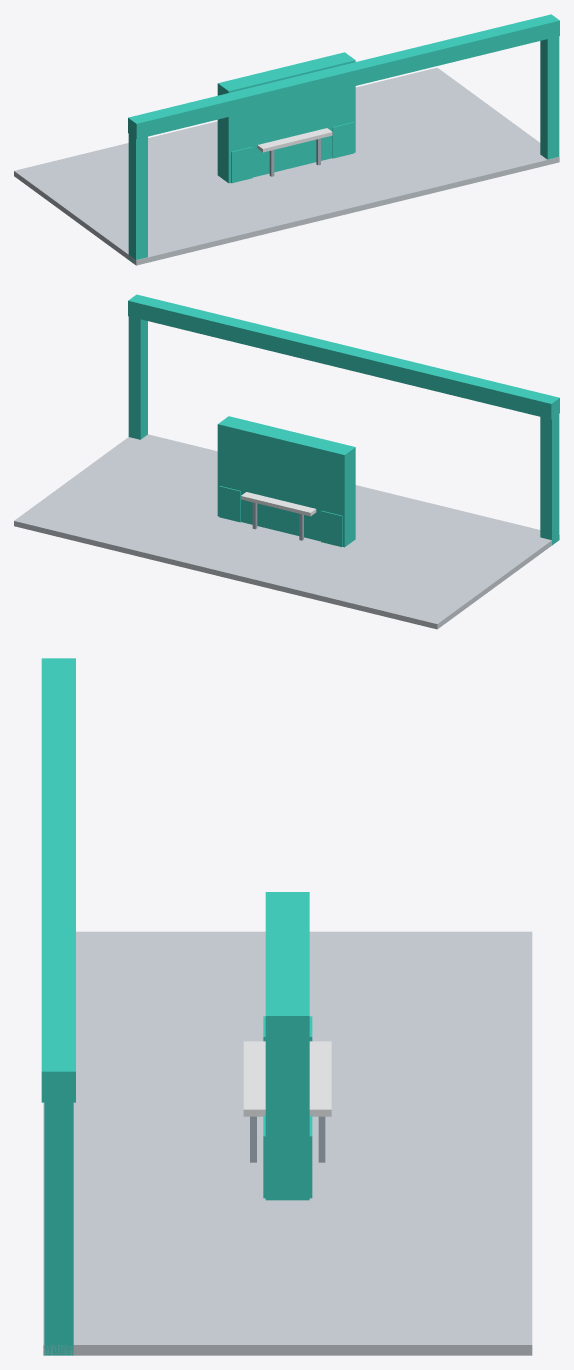
The picture shows the model from 3 angles, top to bottom: view 1: azimuth 30°, elevation 25°; view 2: azimuth 150°, elevation 25°; view 3: azimuth 270°, elevation 25°; orthographic projection. The views are drawn at different scales.
Visible parts, largest first — view 1: Exhibition Booth Concept; view 2: Exhibition Booth Concept; view 3: Exhibition Booth Concept.
Part boxes in pixels (x1,y1,x2,y2): Exhibition Booth Concept: (14, 14, 559, 265); Exhibition Booth Concept: (14, 294, 559, 629); Exhibition Booth Concept: (41, 658, 532, 1355).
Bounding box in the file's own units: 10 × 3.2 × 5.02.
